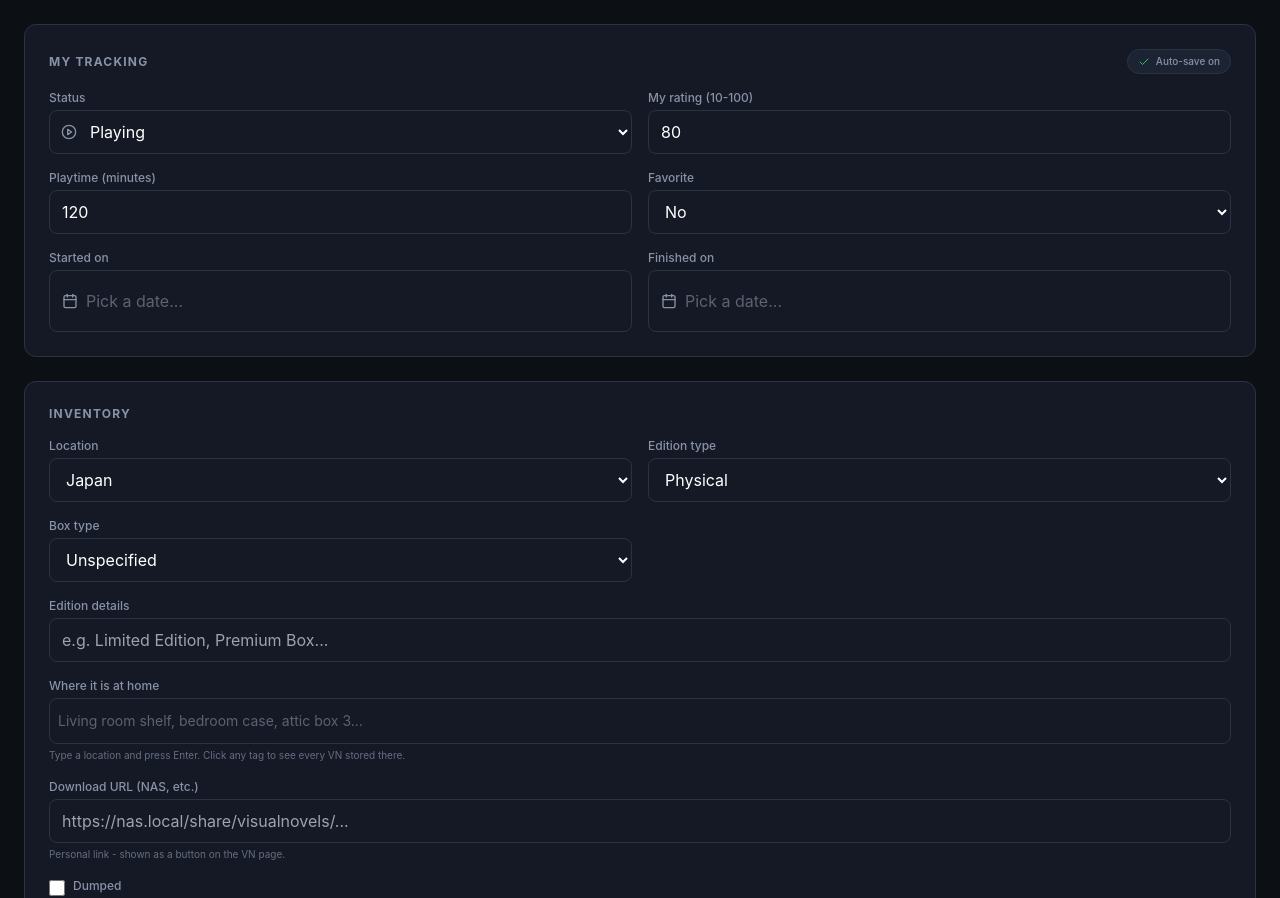
EditForm autosave side effects (fake timers) › does not auto-save while playtime is invalid
Replace the text in the number field showing "120" with "-1": (340, 212) [49,190,632,234]
Wait 900 ms
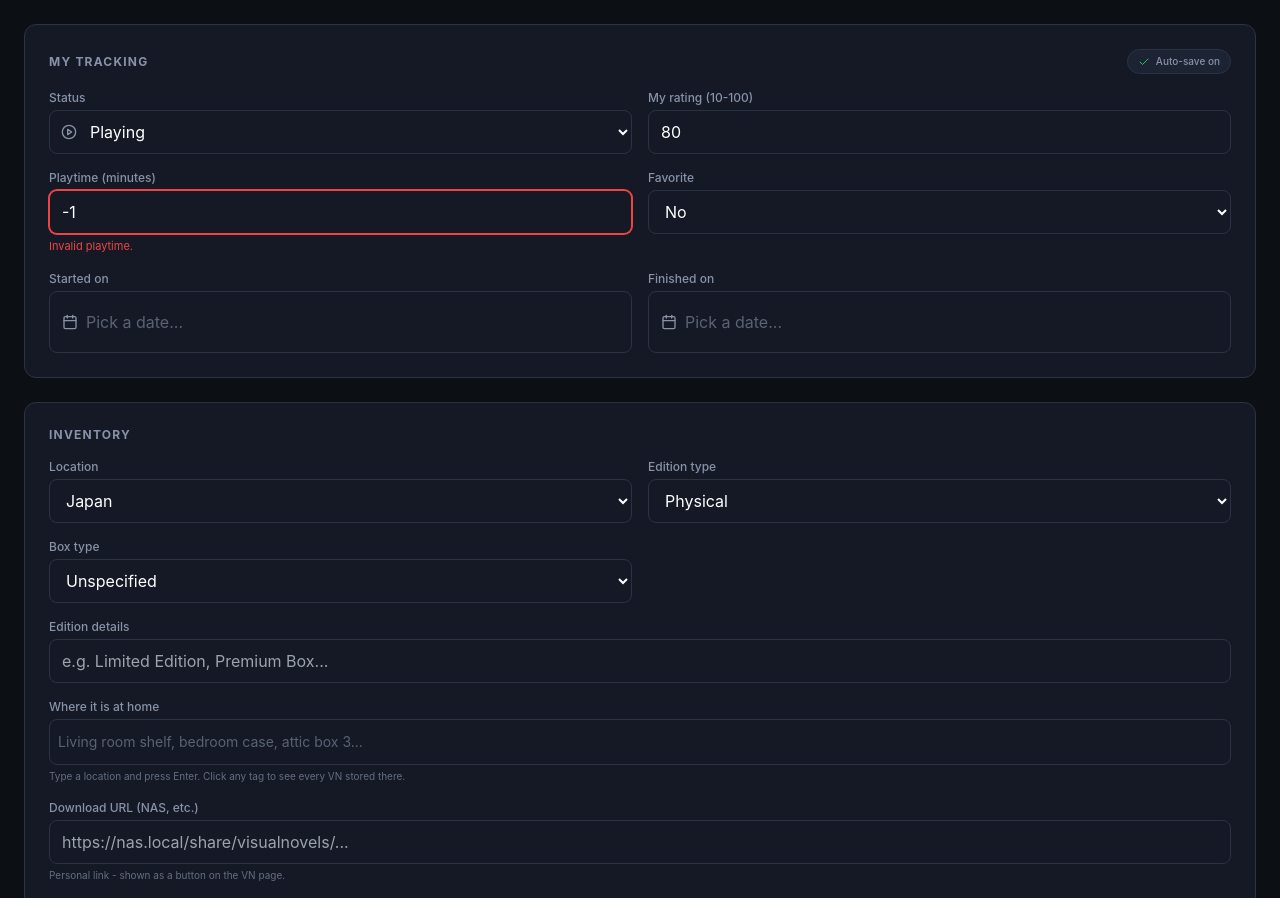
Expected: the text "Invalid playtime." is shown, [49,239,133,253]
